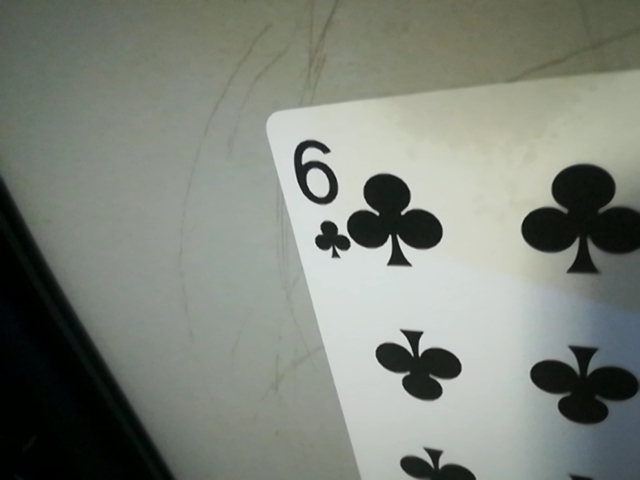mh 6: (283, 127, 352, 265)
